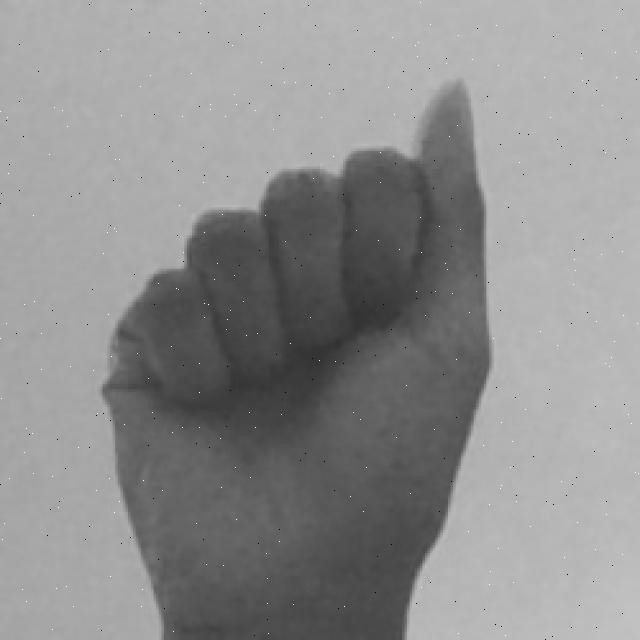A: (97, 64, 507, 640)
